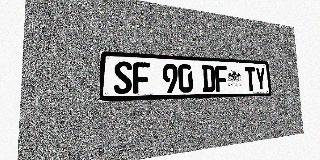0: (178, 64, 193, 93)
9: (162, 63, 178, 93)
D: (202, 65, 215, 92)
F: (133, 62, 150, 94), (215, 65, 228, 92)
S: (114, 61, 132, 94)
T: (244, 67, 256, 91)
Y: (255, 67, 266, 91)
